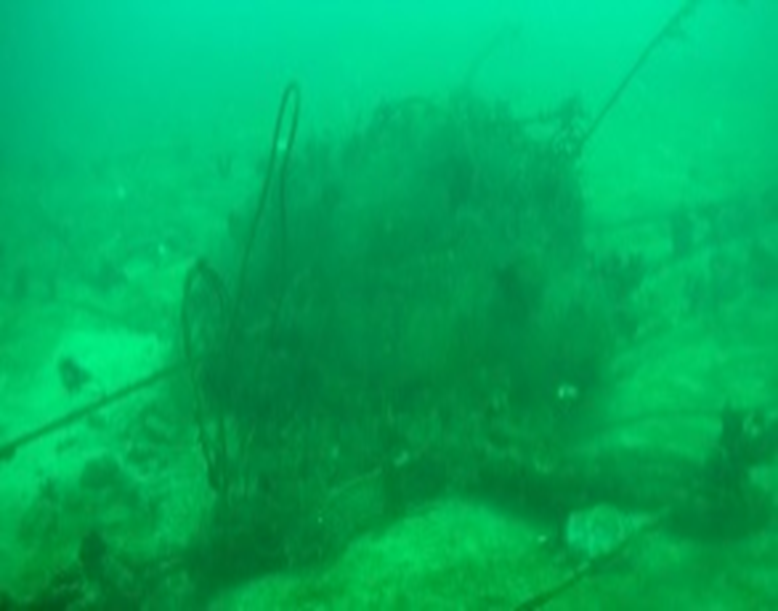fishing net: (169, 73, 639, 450)
